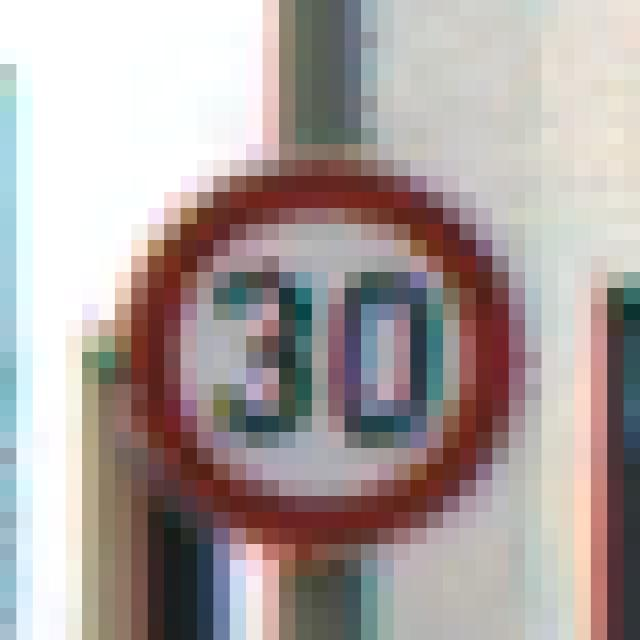Speed Limit -30-: (74, 88, 533, 536)
